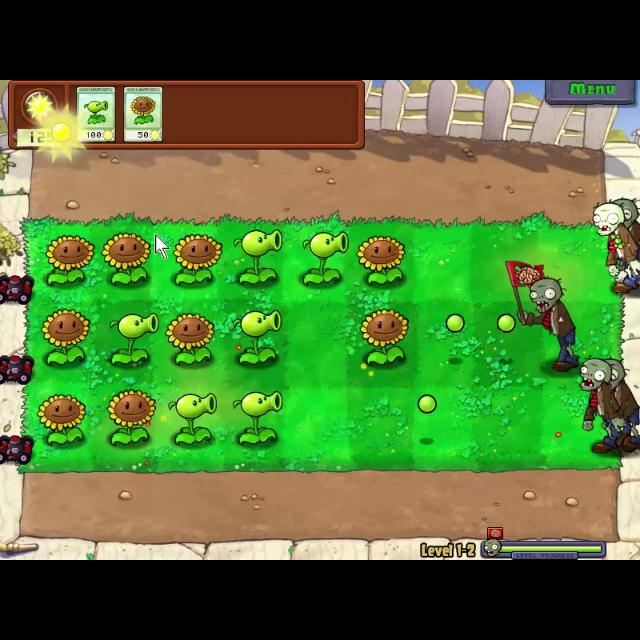Flag Zombie: (504, 256, 580, 374)
Garden: (18, 216, 626, 472)
Menu Button: (544, 80, 638, 106)
Mower: (0, 430, 32, 470), (0, 353, 36, 385), (1, 271, 34, 305)
Peashooter: (76, 86, 118, 144)
Peashooter Seed: (228, 306, 290, 368), (162, 390, 220, 448), (106, 313, 160, 373), (232, 226, 284, 288), (232, 391, 288, 444), (300, 230, 348, 286)
Seed Panel: (7, 80, 366, 150)
Sun: (36, 105, 88, 162)
Sunflower: (124, 84, 166, 146)
Sunflower Seed: (38, 306, 96, 368), (356, 307, 412, 367), (105, 386, 157, 448), (100, 230, 154, 288), (42, 230, 94, 290), (168, 233, 224, 287), (354, 232, 408, 288), (36, 391, 86, 447), (167, 312, 217, 366)
Zombie: (592, 200, 640, 294), (575, 356, 619, 456), (604, 359, 640, 453)
